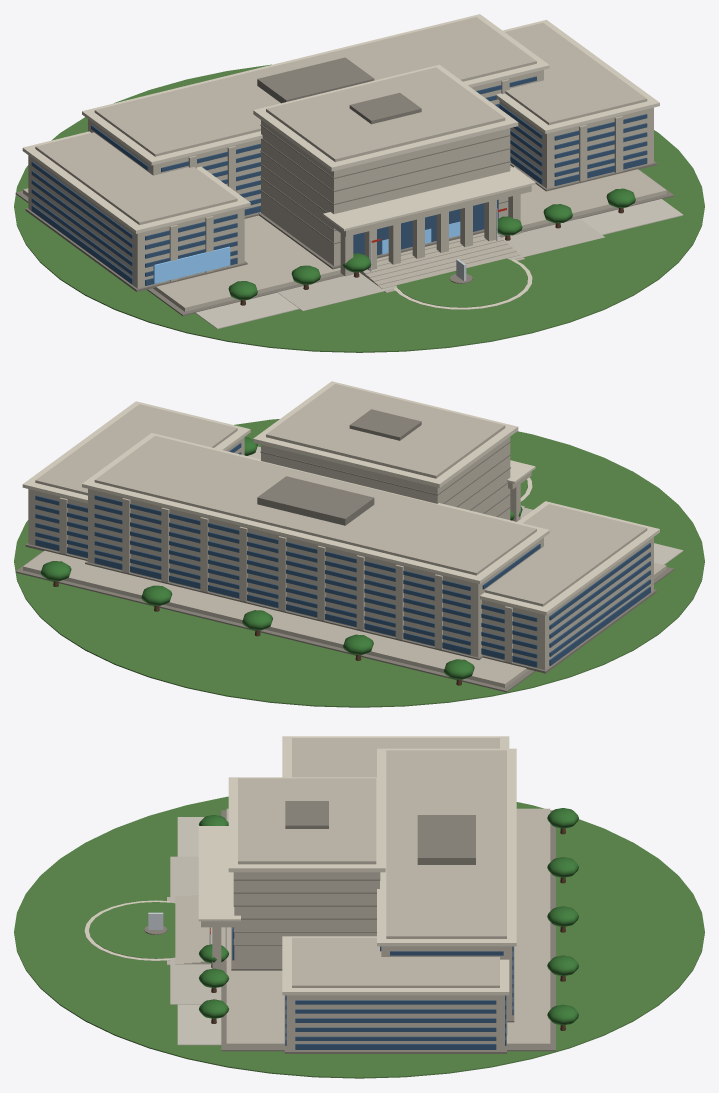
Rendered from supreme-court.glb.
The picture shows the model from 3 angles, top to bottom: view 1: azimuth 30°, elevation 25°; view 2: azimuth 150°, elevation 25°; view 3: azimuth 270°, elevation 25°; orthographic projection.
Bounding box in the file's own units: 211 × 40.2 × 211.
